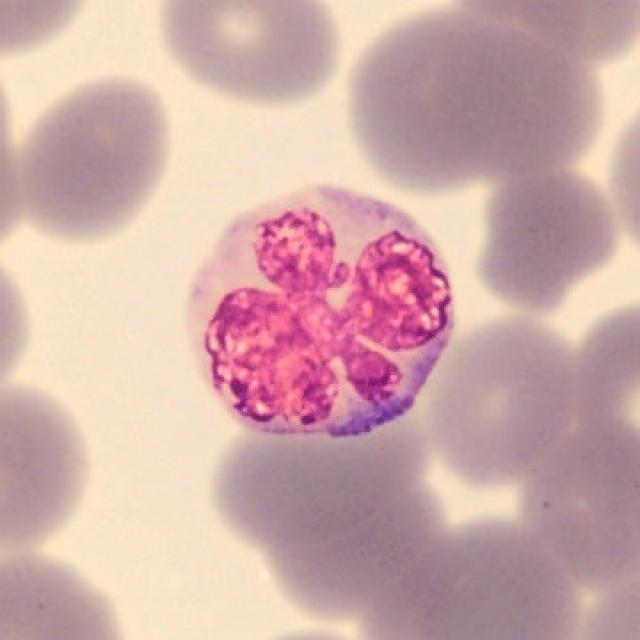Monocito: (183, 183, 457, 439)
